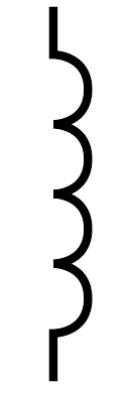inductor: (20, 36, 106, 342)
